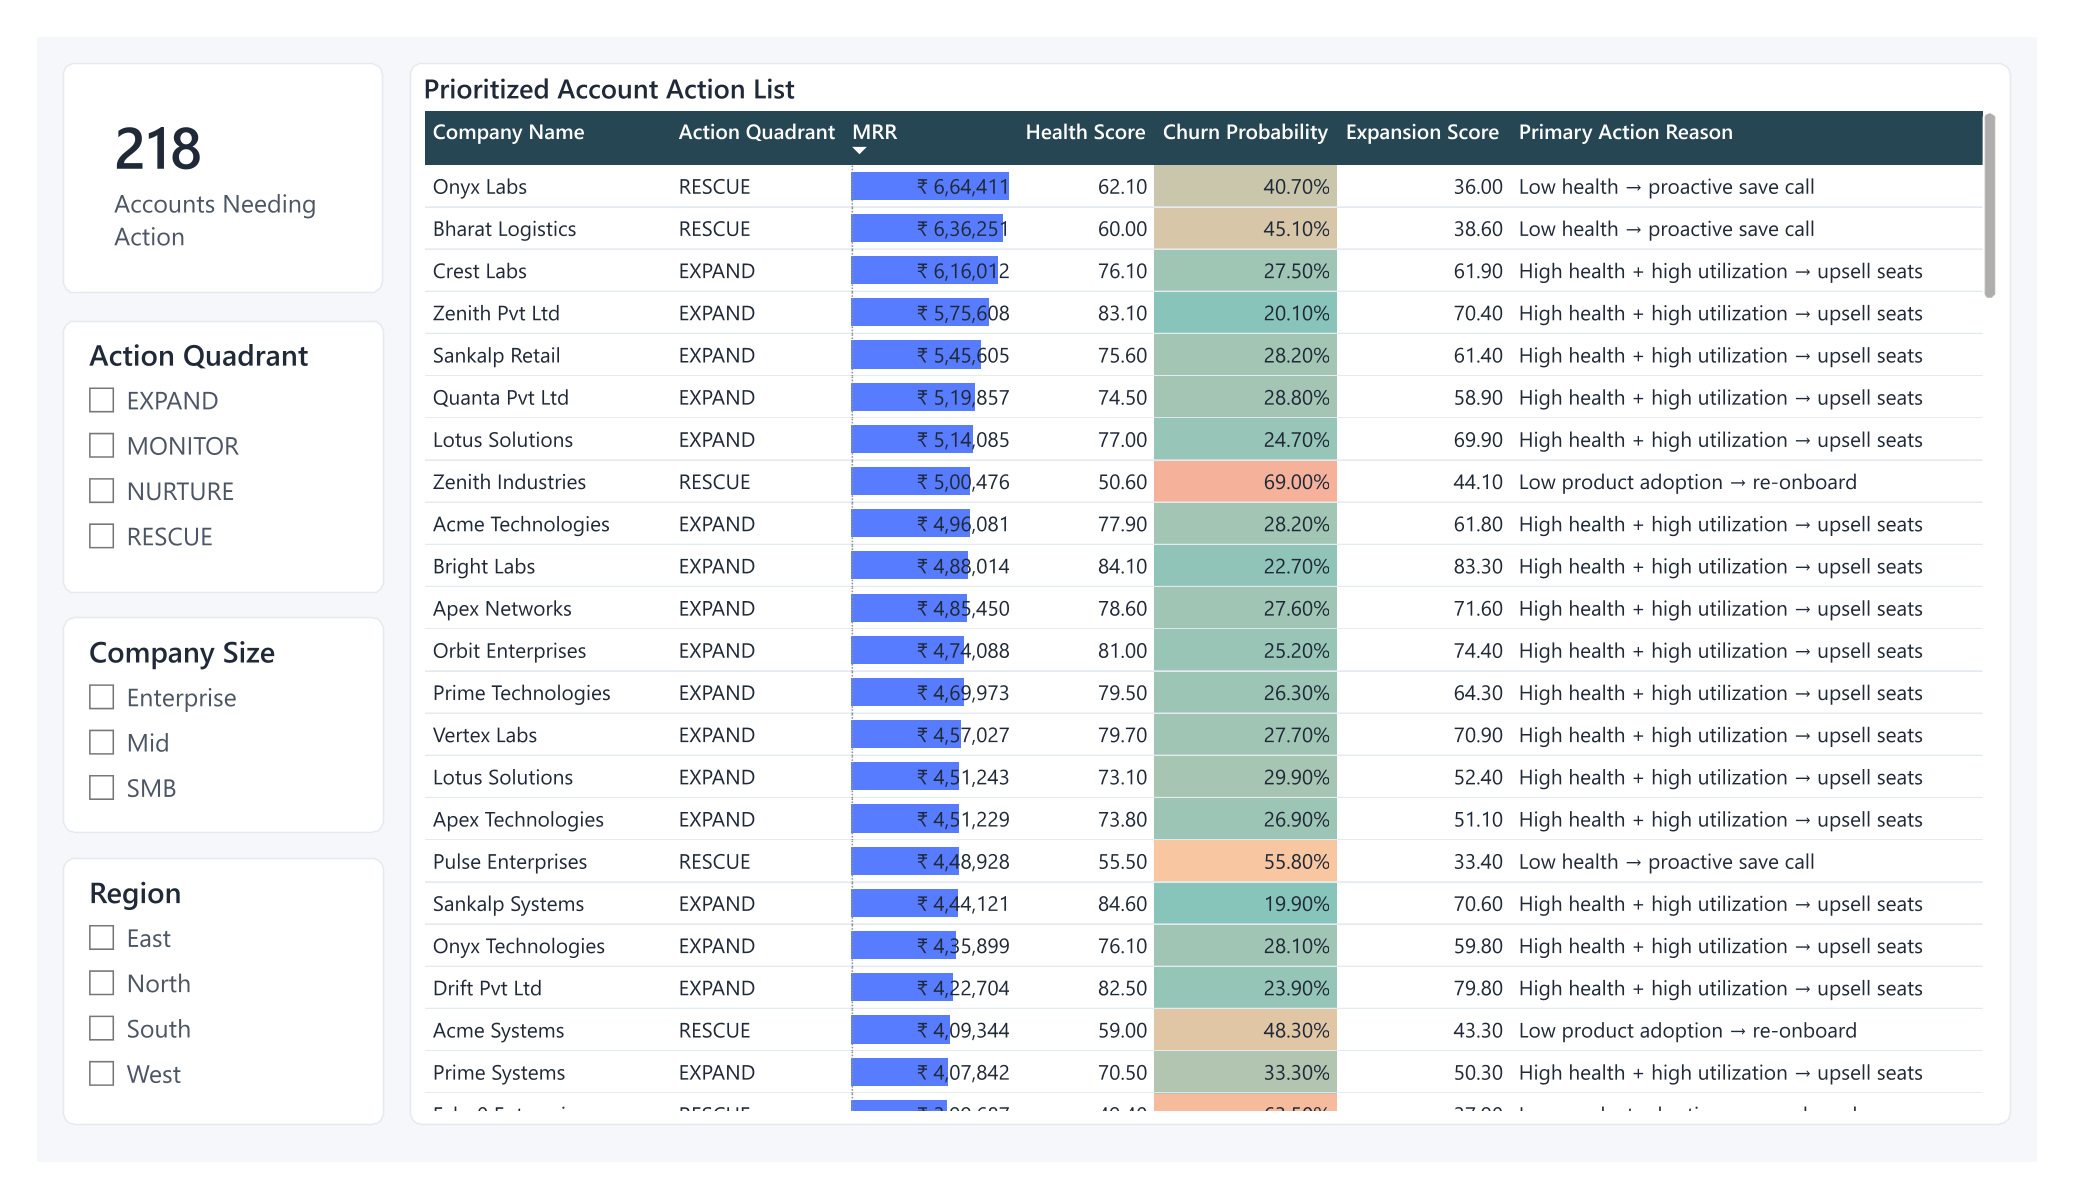

What the dashboard file says about the page in this screenshot:
{"tool":"powerbi","page":{"name":"Account Action List","canvas":[1280,720],"ordinal":4},"visuals":[{"type":"tableEx","title":"Prioritized Account Action List","fields":{"Values":["features_final.company_name","features_final.action_quadrant","features_final.mrr","features_final.health_score","features_final.churn_probability","features_final.expansion_score","_Measures.Primary Action Reason"]},"box":[238.3,16,1025,680],"z":0},{"type":"slicer","fields":{"Values":["features_final.action_quadrant"]},"box":[15.6,181.1,206.5,175.4],"z":1000},{"type":"slicer","fields":{"Values":["features_final.company_size"]},"box":[15.6,370.6,206.5,138.6],"z":2000},{"type":"slicer","fields":{"Values":["features_final.region"]},"box":[15.6,524.8,206.5,171.2],"z":3000},{"type":"cardVisual","fields":{"Data":["_Measures.Accounts Needing Action"]},"box":[15.6,15.6,205.1,148.5],"z":4000}]}

Visuals, with their boxes on the page's 1280x720 design canvas (x1, y1, x2, y2). These are canvas units, not pixel positions in the 2075x1200 screenshot, which may show the page scaled, cropped or inside an application window:
"Prioritized Account Action List" tableEx: bbox(238, 16, 1263, 696)
slicer - features_final.action_quadrant: bbox(16, 181, 222, 356)
slicer - features_final.company_size: bbox(16, 371, 222, 509)
slicer - features_final.region: bbox(16, 525, 222, 696)
cardVisual - _Measures.Accounts Needing Action: bbox(16, 16, 221, 164)
